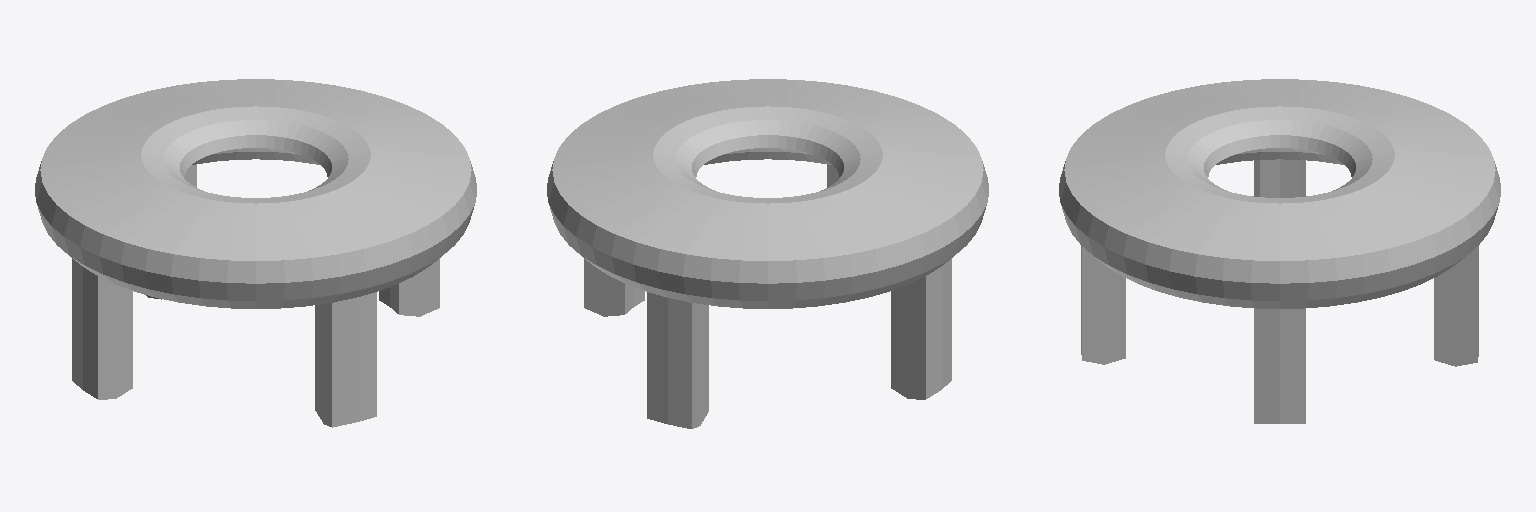
Rendered from port.obj.
3 renders of one model, left to right at view 1: azimuth 30°, elevation 25°; view 2: azimuth 150°, elevation 25°; view 3: azimuth 270°, elevation 25°, orthographic.
Parts seen in each view (by area): view 1: Torus; view 2: Torus; view 3: Torus.
Part boxes in pixels (x1,y1,x2,y2): Torus: (35, 79, 476, 427); Torus: (547, 79, 988, 428); Torus: (1059, 79, 1500, 423).
Bounding box in the file's own units: 0.9037 × 0.4546 × 0.9037.